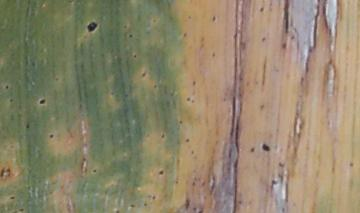tarspot: (88, 21, 98, 33), (262, 143, 271, 152), (277, 160, 286, 168), (185, 197, 190, 210), (236, 197, 243, 206), (258, 6, 265, 14), (288, 33, 295, 41), (39, 98, 46, 105), (5, 166, 12, 173), (191, 79, 197, 87), (260, 36, 266, 43), (281, 42, 287, 49), (158, 169, 164, 176), (271, 179, 278, 185), (151, 194, 157, 201), (129, 202, 136, 208), (122, 22, 128, 29), (186, 13, 192, 20), (53, 76, 60, 82), (1, 167, 5, 177), (48, 133, 54, 139), (185, 96, 191, 102), (9, 195, 15, 201), (151, 17, 157, 23), (141, 71, 146, 78), (152, 83, 157, 90), (183, 31, 188, 38), (160, 133, 165, 140), (211, 51, 216, 58), (250, 146, 255, 153), (349, 161, 354, 168), (212, 14, 216, 22), (8, 98, 14, 103), (25, 123, 30, 129), (185, 137, 190, 143), (178, 119, 183, 125), (142, 202, 148, 207), (92, 168, 97, 174), (18, 208, 24, 213), (128, 33, 133, 38), (192, 206, 197, 211), (191, 181, 196, 186), (5, 85, 9, 90), (133, 53, 137, 58), (198, 209, 203, 213), (191, 149, 194, 155), (116, 210, 119, 213)
